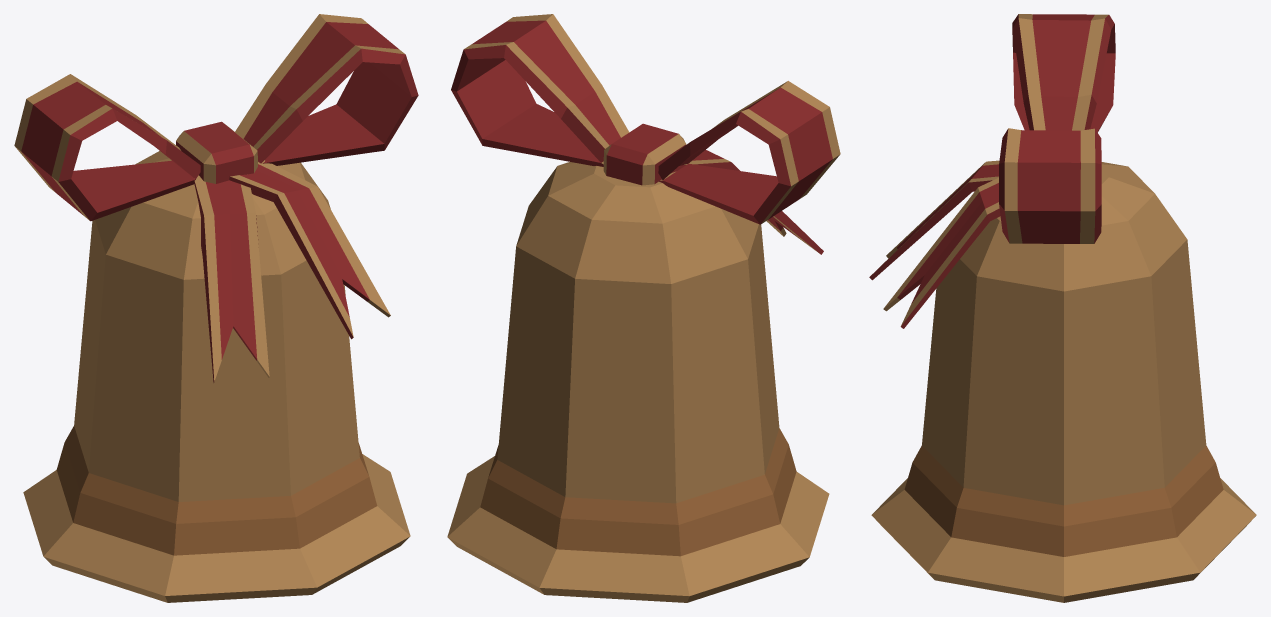
Rendered from bell-b-christmas.glb.
3 renders of one model, left to right at view 1: azimuth 30°, elevation 25°; view 2: azimuth 150°, elevation 25°; view 3: azimuth 270°, elevation 25°, orthographic. The views are drawn at different scales.
Parts seen in each view (by area): view 1: bell_b_christmas; view 2: bell_b_christmas; view 3: bell_b_christmas.
Boxes of the visible parts, x1,y1,x2,y2 form: bell_b_christmas: (14, 14, 418, 602); bell_b_christmas: (447, 14, 840, 602); bell_b_christmas: (869, 14, 1256, 602).
Size of the model in its own units: 0.1411 by 0.1785 by 0.1386.
Materials: 1 (1 with a texture image).
